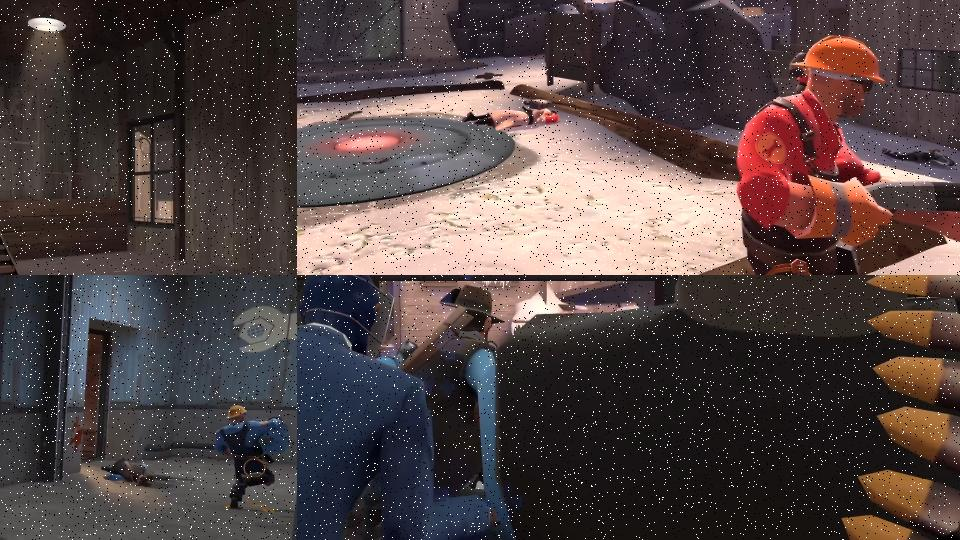Enemy: (494, 275, 960, 540), (734, 32, 960, 275), (297, 275, 493, 540), (399, 285, 495, 494), (212, 404, 290, 511), (462, 99, 560, 133), (881, 147, 956, 169), (100, 459, 154, 488)
